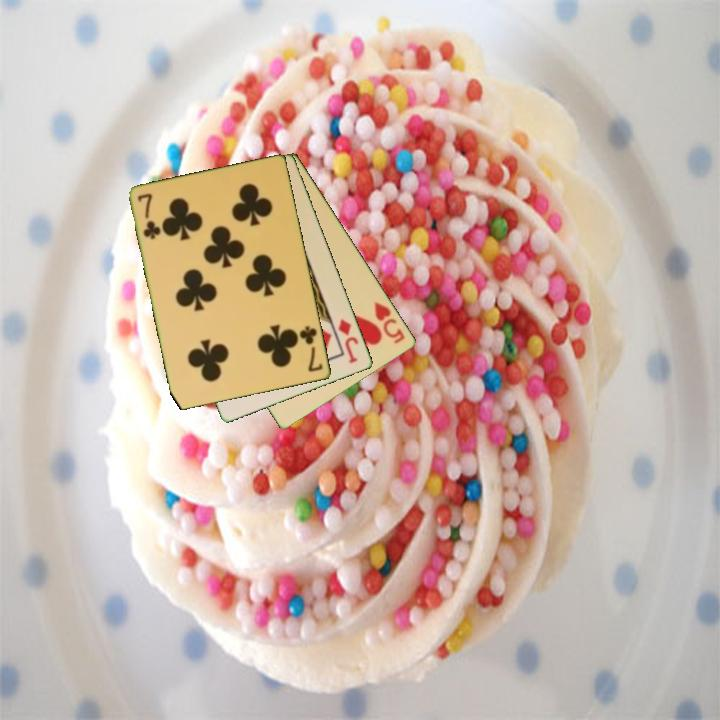5h: (371, 298, 408, 347)
7c: (296, 322, 326, 375), (134, 190, 163, 243)
Jd: (335, 315, 362, 366)
